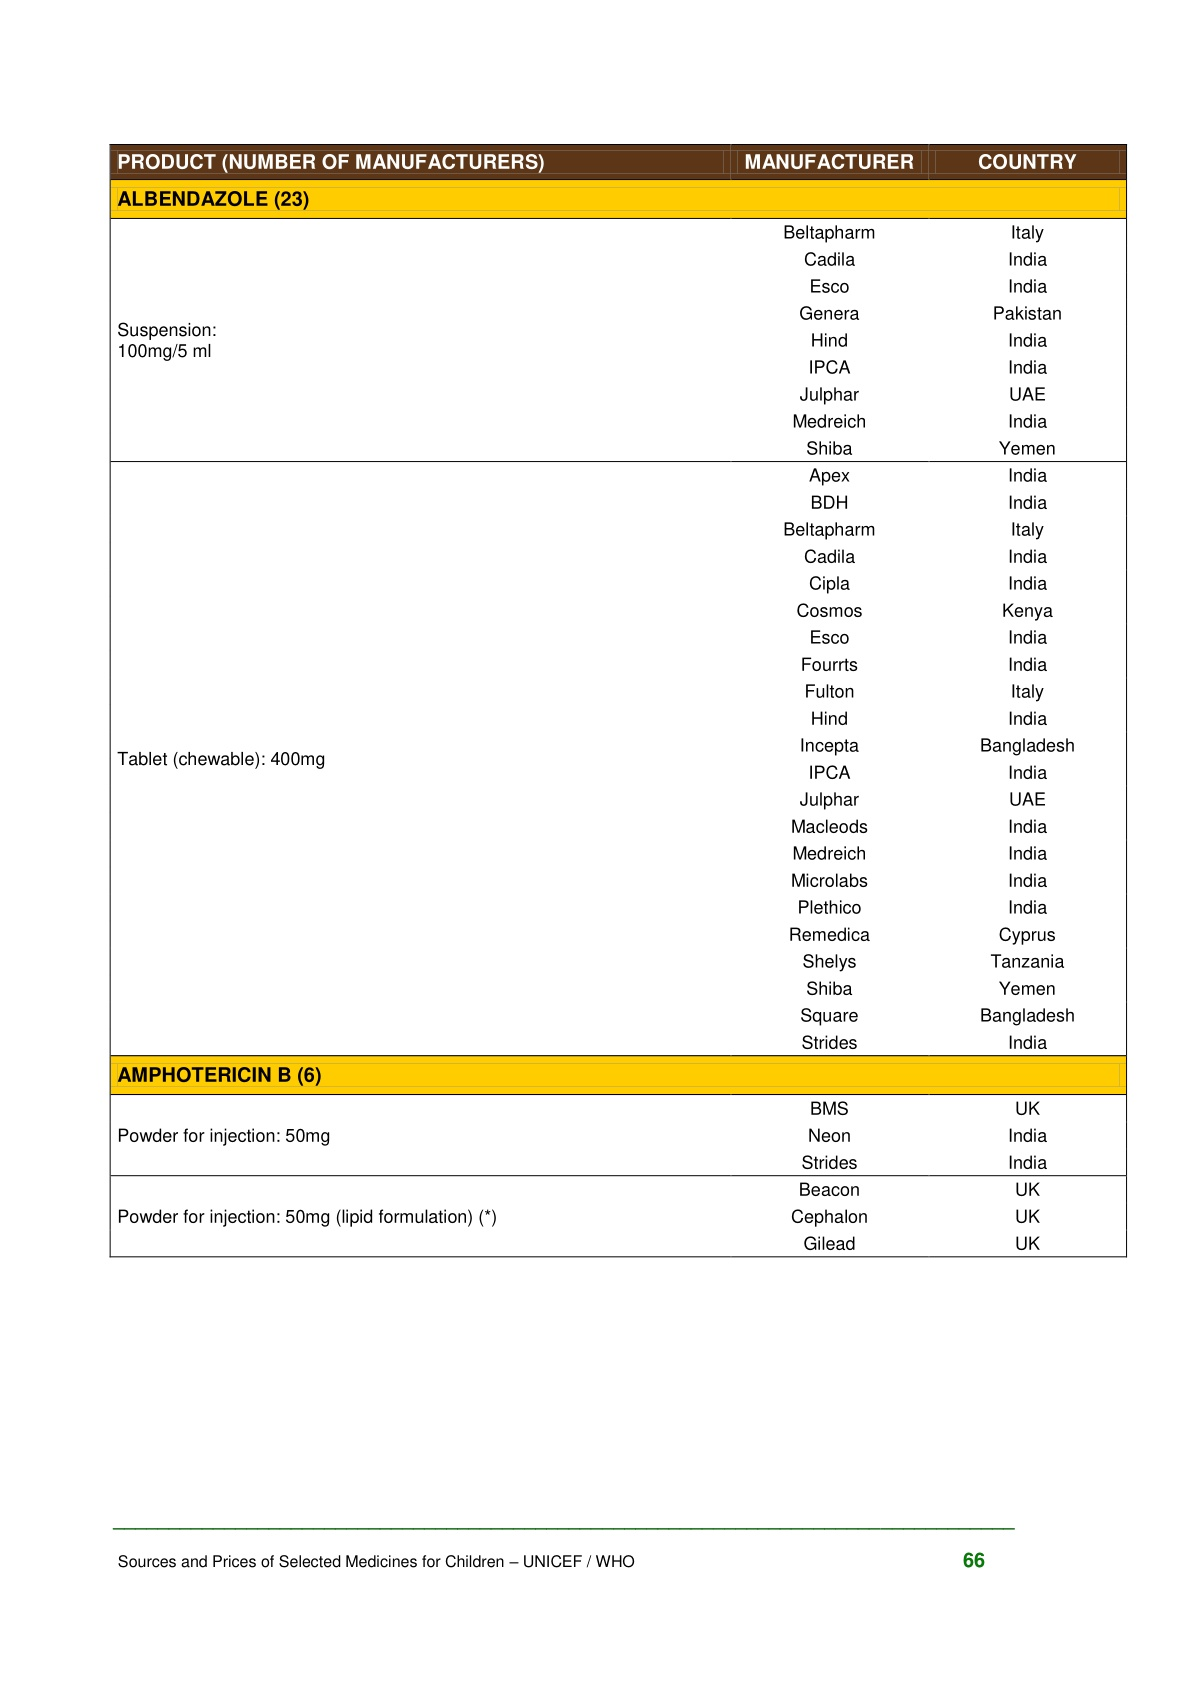partial_lined_merged_cells: (107, 143, 1130, 1259)
